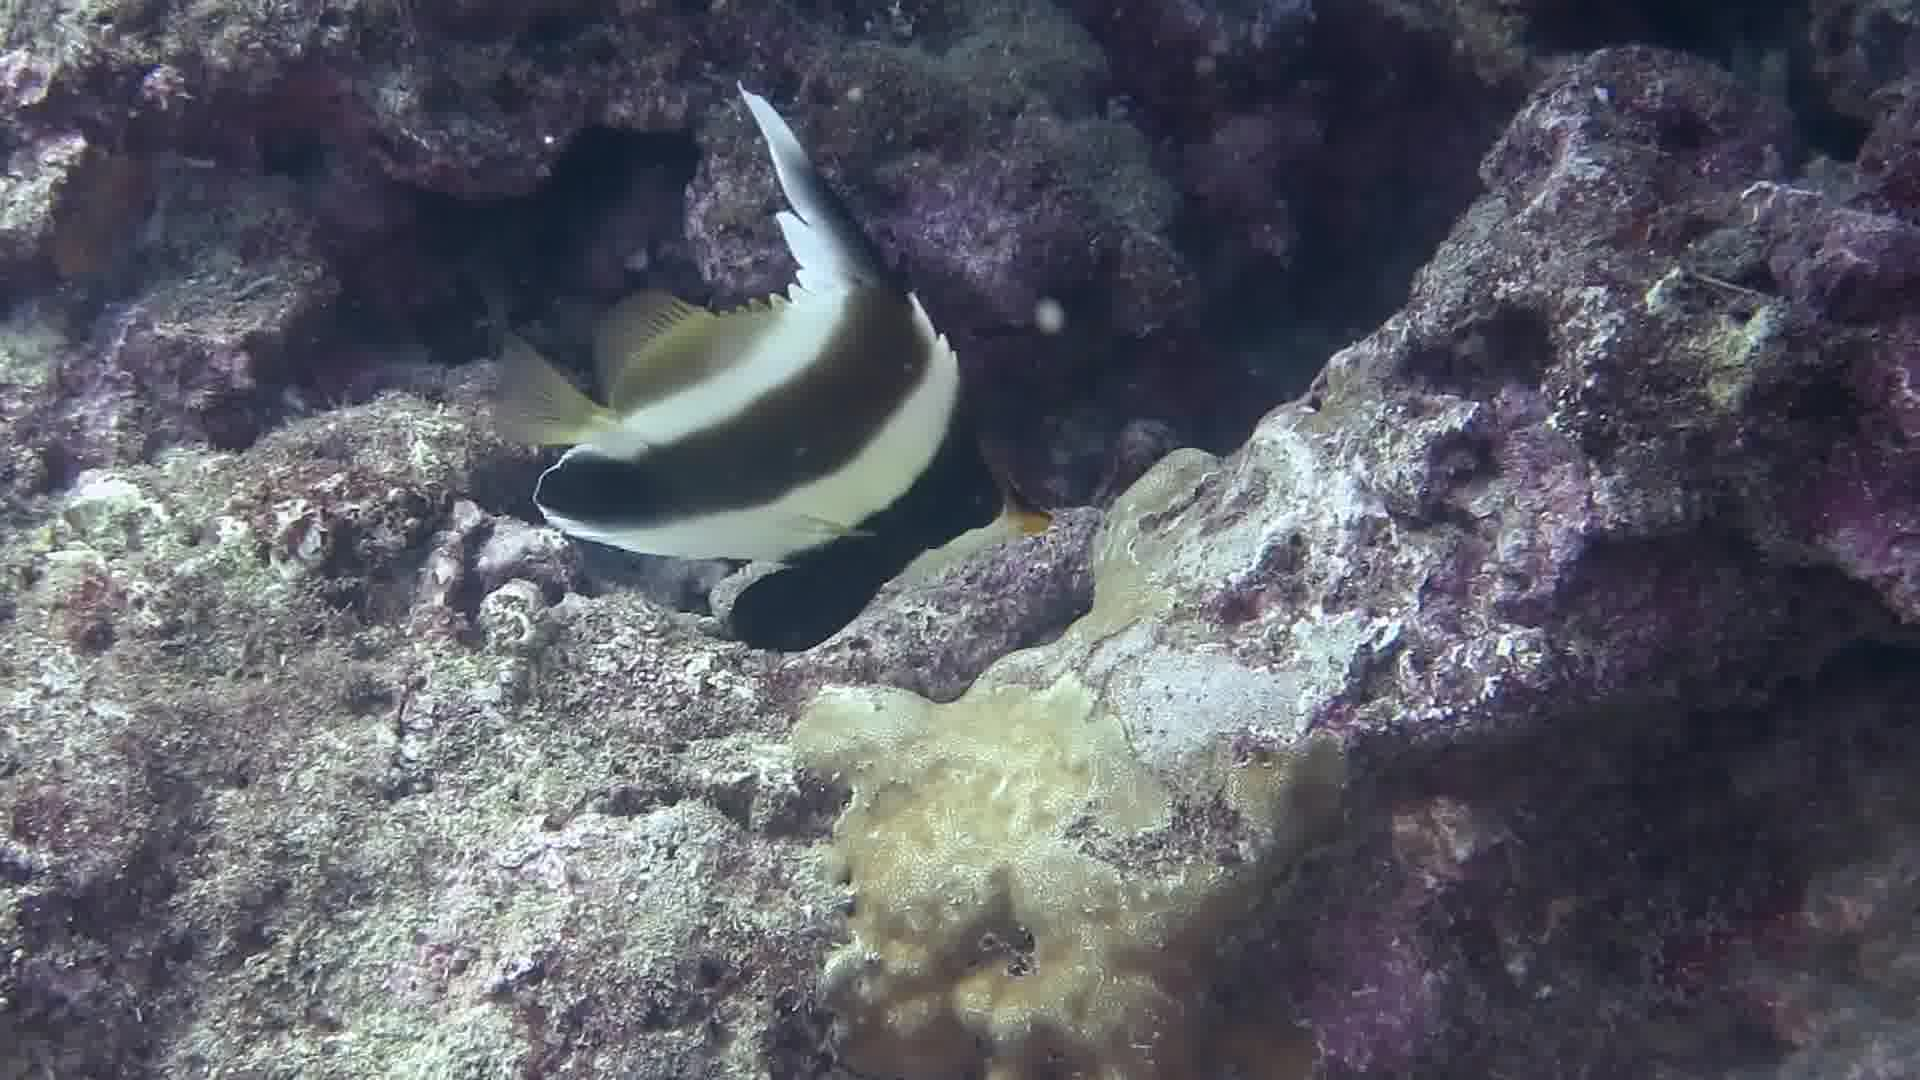Heniochus chrysostomus: (452, 59, 1077, 711)
